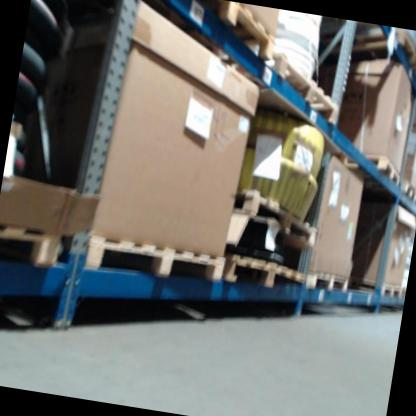pallet: (81, 230, 227, 292), (260, 49, 347, 128), (262, 51, 347, 126), (228, 185, 323, 250), (193, 0, 280, 63), (221, 250, 307, 293), (0, 221, 65, 273), (347, 271, 406, 303), (387, 27, 416, 82), (361, 152, 403, 189), (304, 267, 350, 298), (397, 180, 416, 202)
